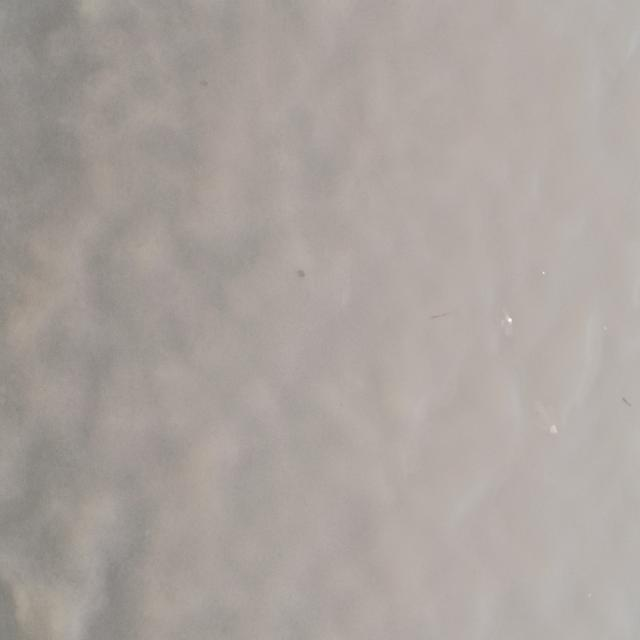Organic Debris: (424, 301, 462, 330), (621, 394, 631, 412), (297, 268, 309, 280)
Plastic: (496, 307, 520, 344), (548, 422, 562, 443), (602, 322, 610, 334), (540, 269, 546, 279)
